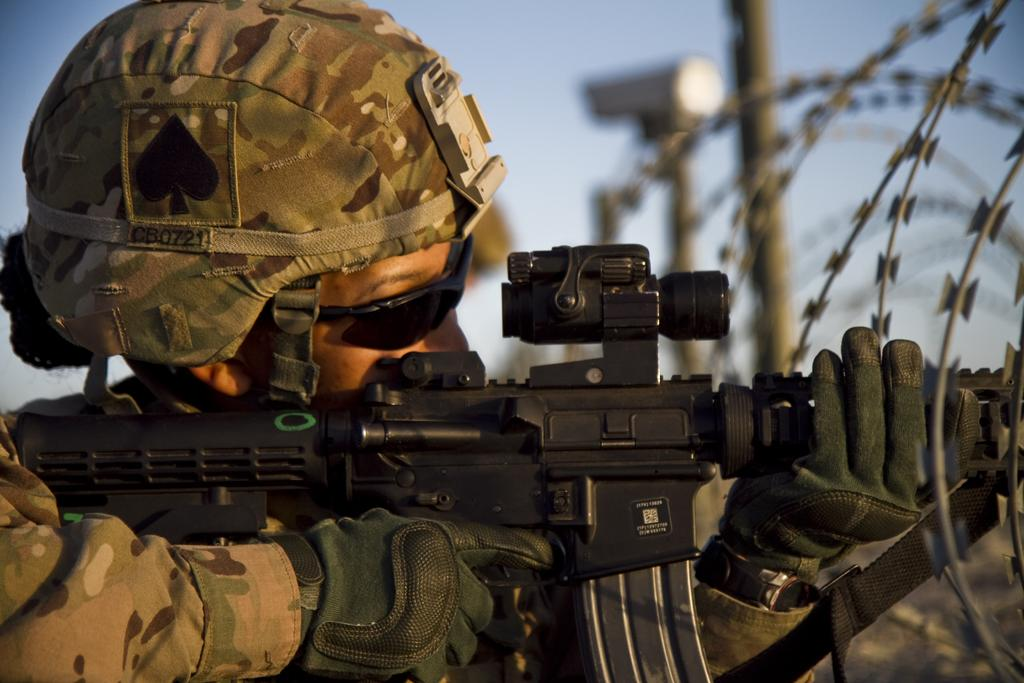Rifle: (38, 324, 1024, 672)
